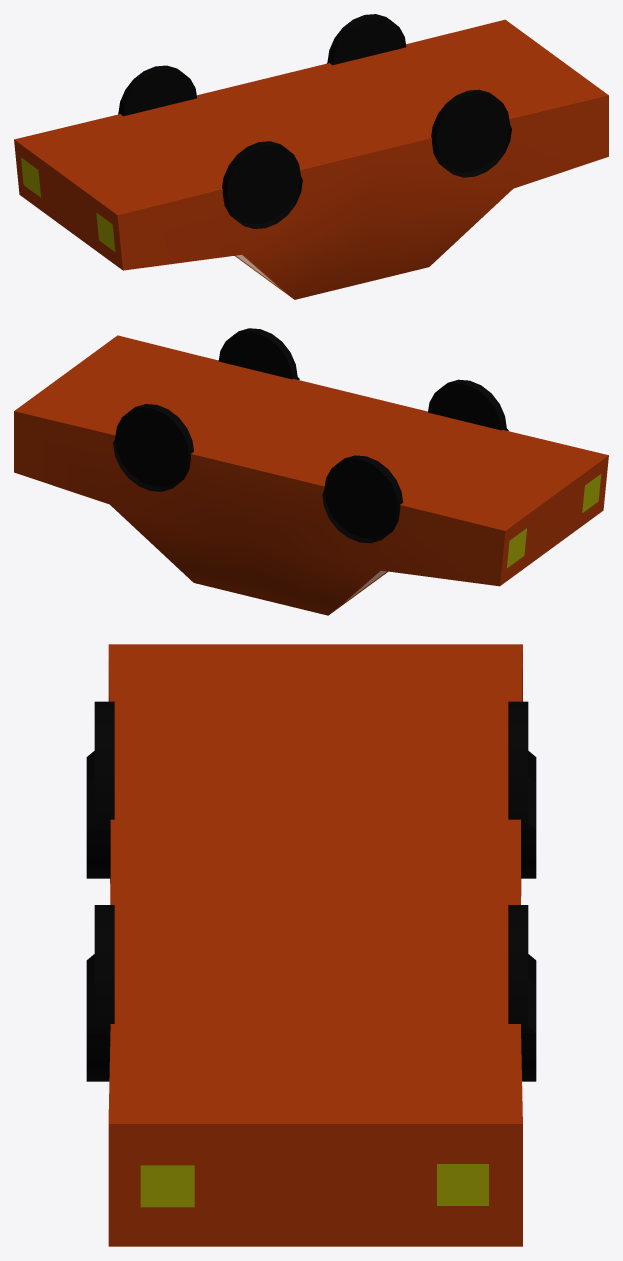
File: Car Toy.fbx
The picture shows the model from 3 angles, top to bottom: view 1: azimuth 30°, elevation 25°; view 2: azimuth 150°, elevation 25°; view 3: azimuth 270°, elevation 25°; orthographic projection. The views are drawn at different scales.
Visible parts, largest first — view 1: pCube349, pCylinder4, pCylinder3, pCylinder6, pCylinder5; view 2: pCube349, pCylinder5, pCylinder6, pCylinder3, pCylinder4; view 3: pCube349, pCylinder4, pCylinder3, pCylinder5, pCylinder6.
Part boxes in pixels (left/top/right/bottom): pCube349: left=14, top=19, right=608, bottom=299; pCylinder4: left=222, top=141, right=302, bottom=228; pCylinder3: left=431, top=89, right=511, bottom=177; pCylinder6: left=327, top=14, right=406, bottom=65; pCylinder5: left=118, top=65, right=196, bottom=116; pCube349: left=14, top=335, right=608, bottom=615; pCylinder5: left=322, top=455, right=403, bottom=543; pCylinder6: left=113, top=404, right=193, bottom=491; pCylinder3: left=218, top=328, right=299, bottom=379; pCylinder4: left=428, top=379, right=508, bottom=430; pCube349: left=108, top=644, right=522, bottom=1246; pCylinder4: left=86, top=701, right=114, bottom=878; pCylinder3: left=86, top=905, right=114, bottom=1081; pCylinder5: left=508, top=701, right=536, bottom=878; pCylinder6: left=508, top=905, right=536, bottom=1081.
Bounding box in the file's own units: 3.65 × 1.27 × 1.45.
